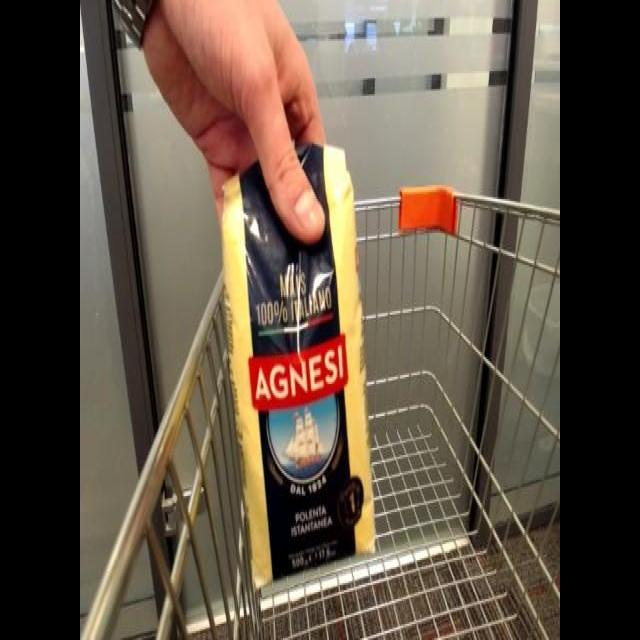Agnesi Polenta: (210, 145, 376, 591)
